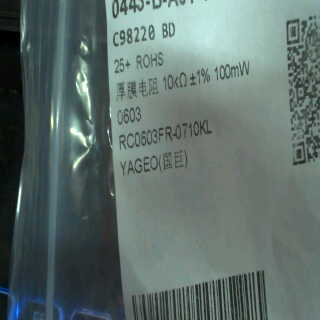10kR: (159, 72, 190, 89)
